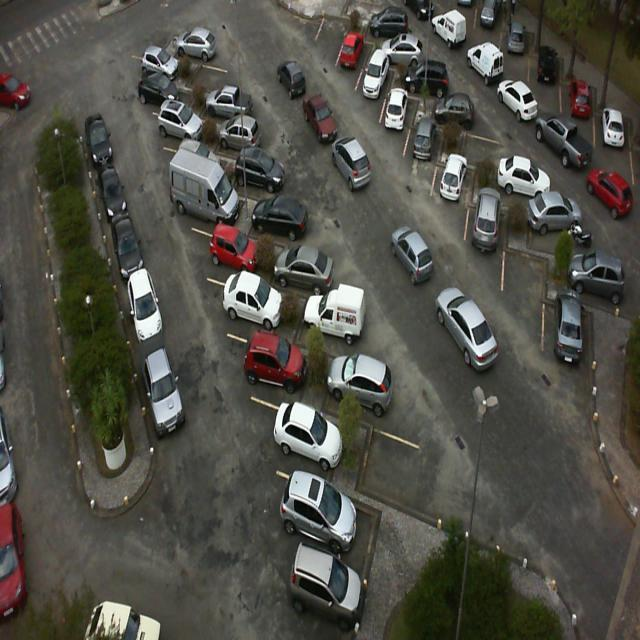space-empty: (365, 425, 432, 507), (503, 241, 543, 312), (464, 124, 514, 170), (315, 9, 352, 68), (192, 58, 237, 94)
space-occupied: (304, 468, 388, 582), (271, 390, 348, 479), (317, 353, 388, 431), (245, 326, 312, 406), (223, 270, 286, 343), (302, 288, 362, 358), (272, 235, 337, 297), (570, 260, 630, 322), (542, 303, 591, 374), (204, 224, 262, 281), (254, 192, 315, 246), (192, 176, 248, 234), (237, 148, 295, 200), (533, 205, 585, 263), (468, 198, 507, 272), (202, 78, 258, 127), (496, 165, 552, 214), (171, 139, 224, 188), (431, 163, 472, 225), (400, 122, 442, 182), (158, 101, 207, 151), (380, 92, 416, 152), (222, 117, 272, 160), (410, 61, 458, 104), (354, 63, 392, 116), (335, 40, 372, 94), (151, 75, 197, 116), (561, 75, 590, 136), (139, 46, 182, 87), (434, 94, 478, 134), (175, 31, 220, 68), (366, 11, 411, 48), (500, 30, 532, 79), (529, 50, 560, 100), (389, 38, 428, 74)
